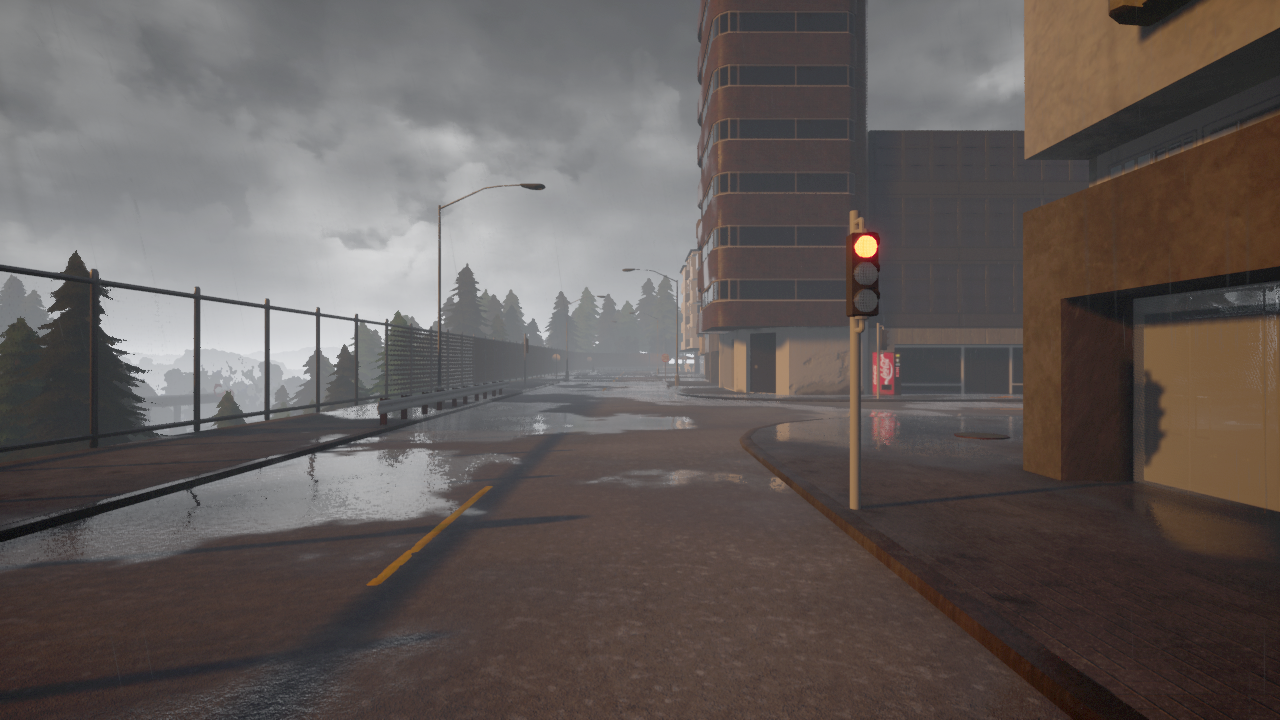red: (846, 229, 882, 320)
